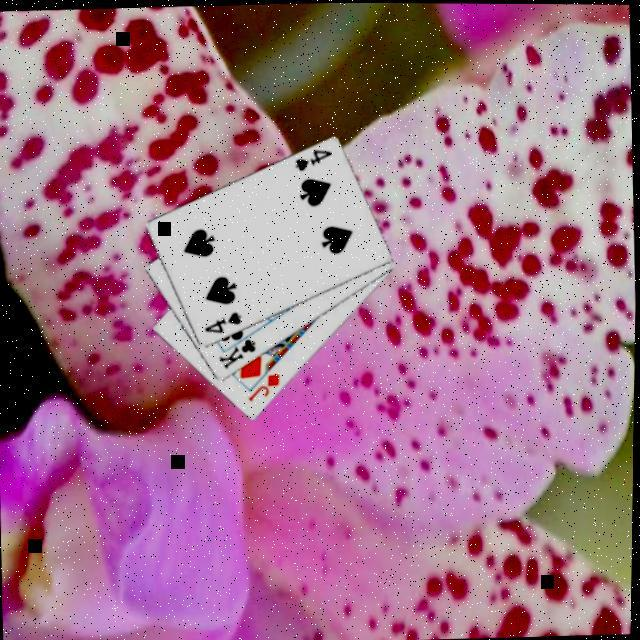4S: (202, 307, 246, 335), (292, 145, 336, 172)
JD: (246, 368, 284, 404)
KC: (216, 327, 261, 370)
